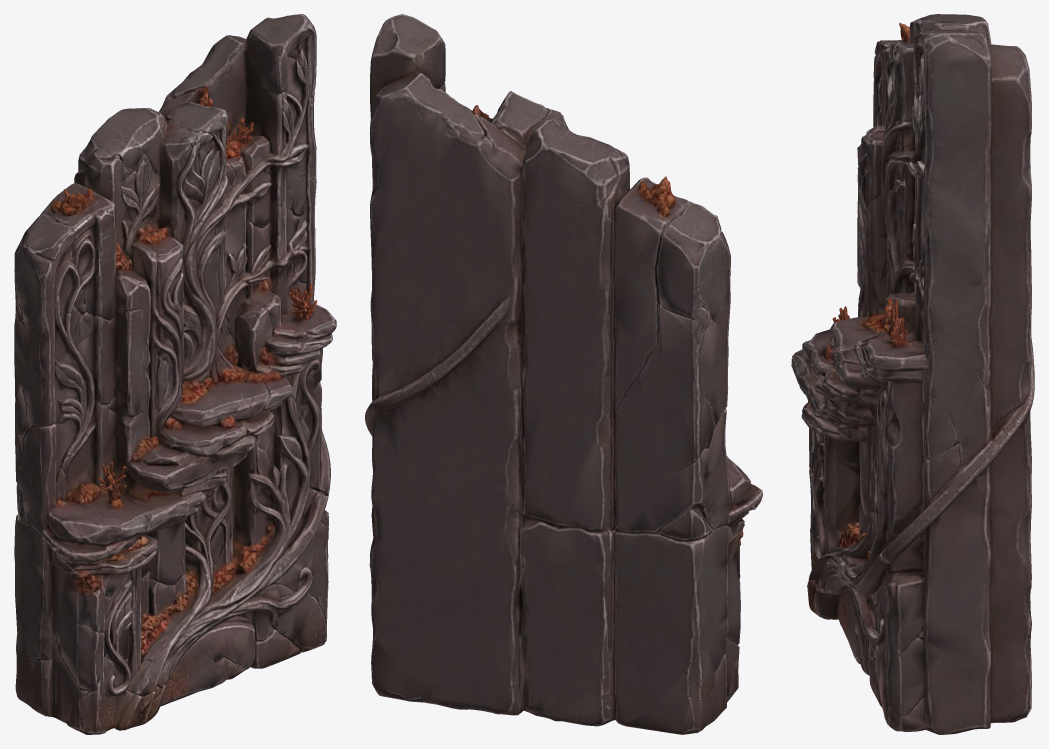
Rendered from gorge_cliff.glb.
3 renders of one model, left to right at view 1: azimuth 30°, elevation 25°; view 2: azimuth 150°, elevation 25°; view 3: azimuth 270°, elevation 25°, orthographic. The views are drawn at different scales.
Visible parts, largest first — view 1: tripo_node_31efb45e-8745-4c0e-8d9f-1056355f9be1; view 2: tripo_node_31efb45e-8745-4c0e-8d9f-1056355f9be1; view 3: tripo_node_31efb45e-8745-4c0e-8d9f-1056355f9be1.
Boxes of the visible parts, bbox=[...] form: tripo_node_31efb45e-8745-4c0e-8d9f-1056355f9be1: bbox=[14, 14, 336, 734]; tripo_node_31efb45e-8745-4c0e-8d9f-1056355f9be1: bbox=[365, 14, 762, 734]; tripo_node_31efb45e-8745-4c0e-8d9f-1056355f9be1: bbox=[791, 14, 1034, 734].
Bounding box in the file's own units: 0.5179 × 0.98 × 0.3085.
Materials: 1 (1 with a texture image).
